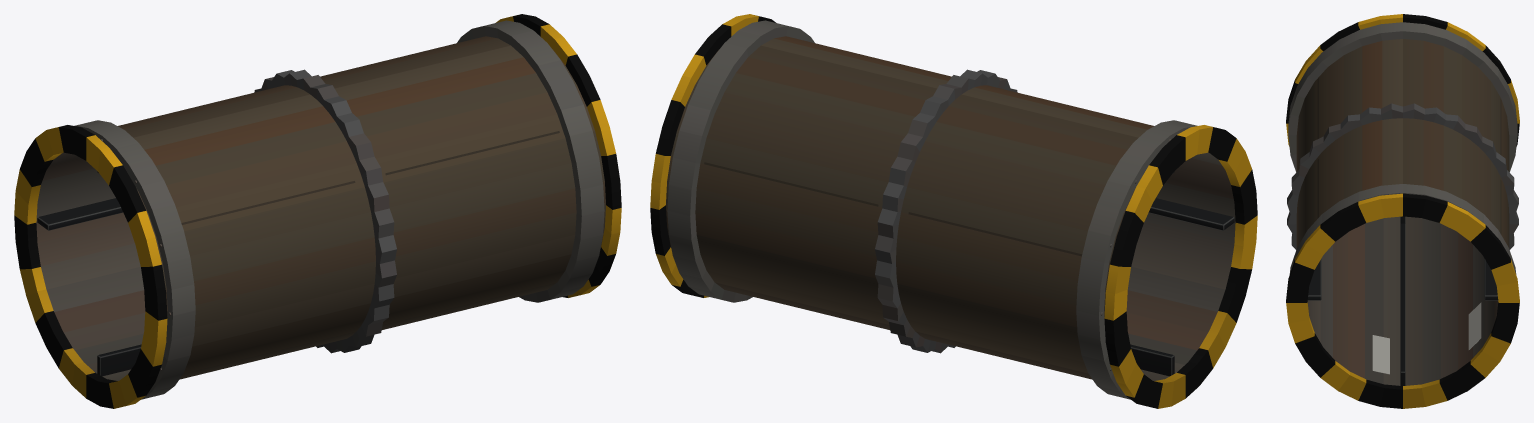
Rendered from coating_drum.glb.
The picture shows the model from 3 angles, left to right: view 1: azimuth 30°, elevation 25°; view 2: azimuth 150°, elevation 25°; view 3: azimuth 270°, elevation 25°; orthographic projection. The views are drawn at different scales.
Visible parts, largest first — view 1: Drum; view 2: Drum; view 3: Drum.
Part boxes in pixels (left/top/right/bottom): Drum: left=14, top=14, right=621, bottom=408; Drum: left=650, top=14, right=1257, bottom=408; Drum: left=1286, top=14, right=1519, bottom=408.
Size of the model in its own units: 6.12 by 3.3 by 3.3.
